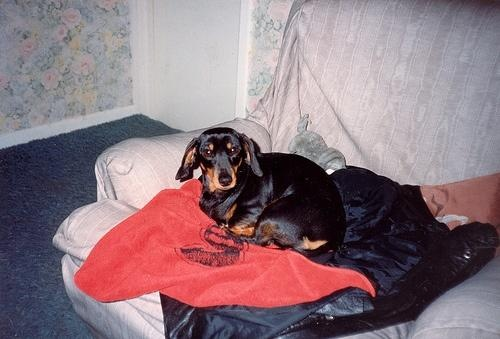chair: (53, 3, 500, 338)
dog: (175, 125, 344, 254)
